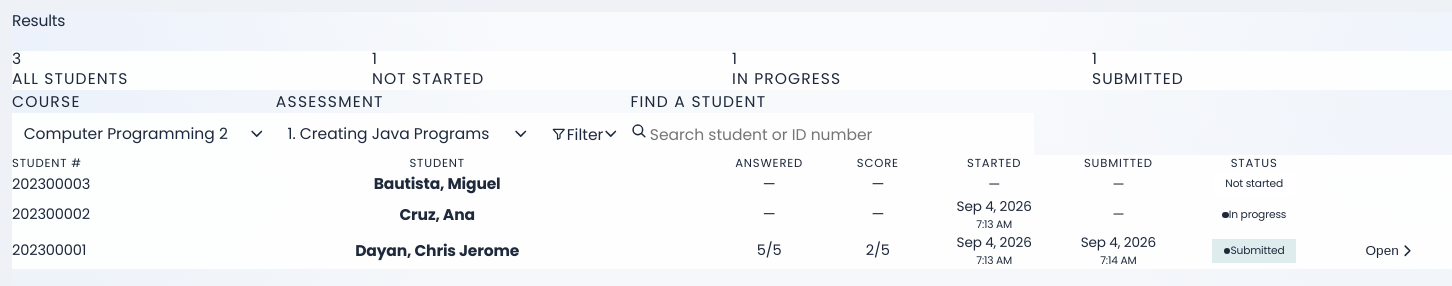
Scenario: narrowing by state › offers the three states the column carries, the whole class first
Expected: the text "Dayan, Chris Jerome" is shown, [355,240,519,260]
Click the dropdown named "Filter by status": click(585, 134) [540,113,630,155]
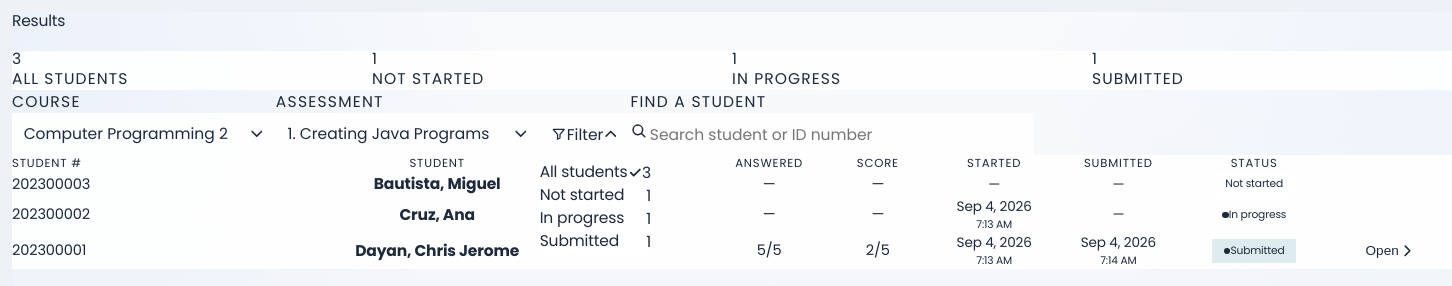
Result: the options read "All students3", "Not started1", "In progress1", "Submitted1", in this order at [540,161,651,184]; [540,184,651,207]; [540,207,651,230]; [540,230,651,253]
